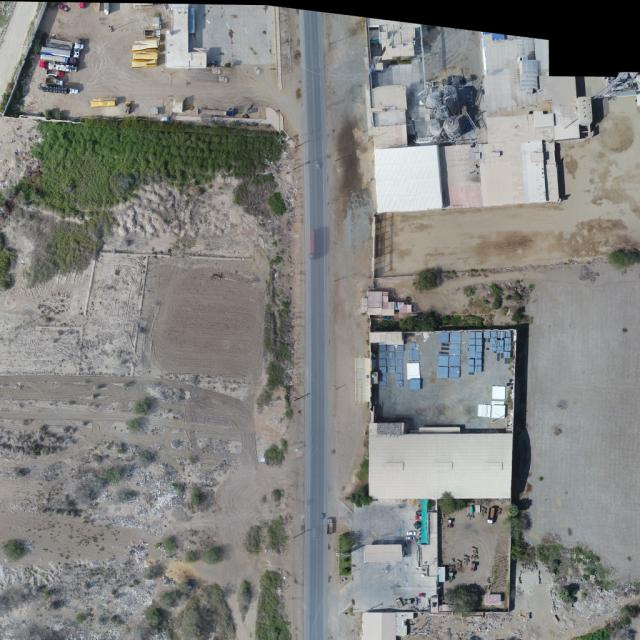building: (368, 16, 562, 212), (368, 329, 515, 501), (165, 5, 206, 68), (551, 77, 580, 141), (589, 69, 640, 101), (418, 512, 438, 577), (365, 291, 396, 316), (363, 545, 403, 563), (395, 610, 415, 638), (578, 96, 592, 134), (584, 75, 607, 96), (397, 302, 413, 315), (484, 594, 501, 606), (430, 596, 439, 613), (437, 603, 452, 613), (438, 566, 445, 582)
dryland: (0, 145, 305, 640), (358, 94, 640, 295), (0, 0, 308, 137), (434, 504, 503, 592)
greenland: (17, 115, 284, 217), (23, 209, 117, 286), (228, 162, 283, 219), (264, 190, 290, 218)
metalled_road: (300, 11, 331, 640)
